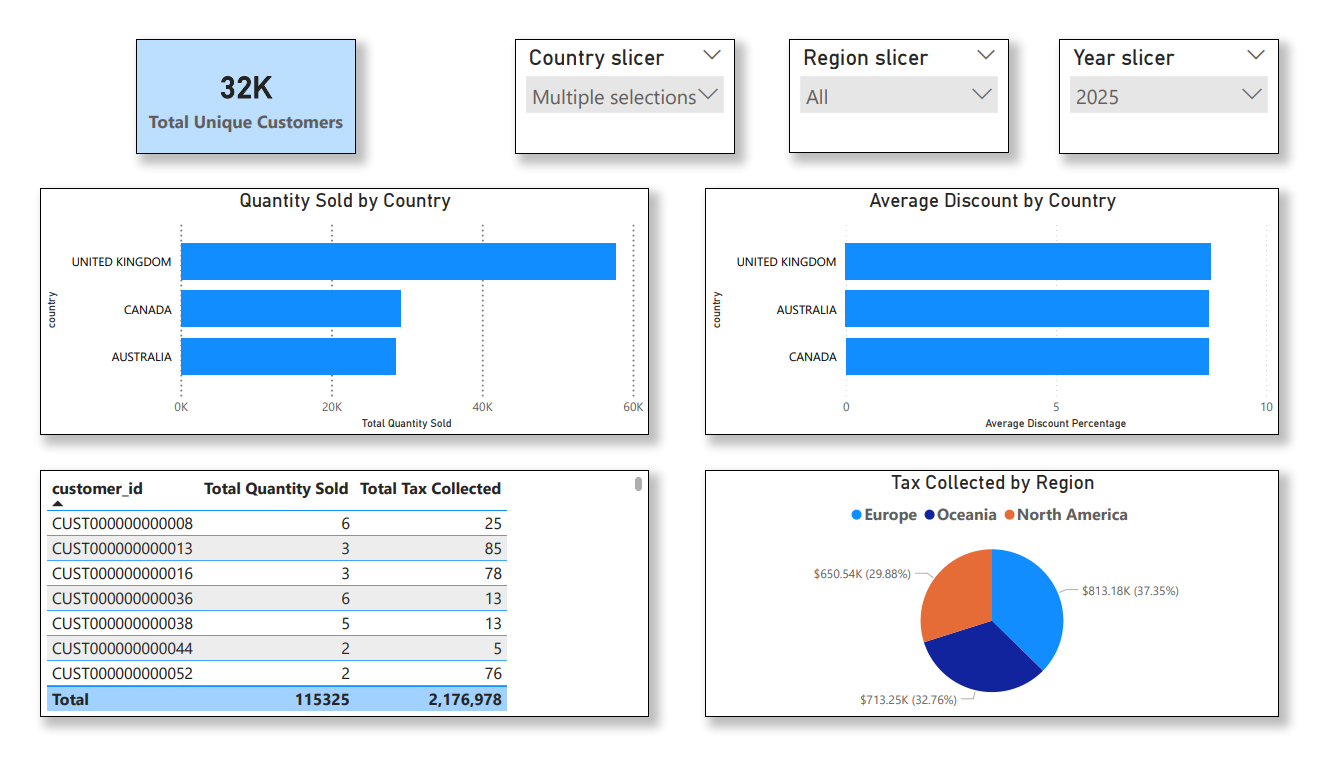

What the dashboard file says about the page in this screenshot:
{"tool":"powerbi","page":{"name":"Customer Dashboard","canvas":[1280,720],"ordinal":1},"visuals":[{"type":"card","fields":{"Values":["_Measures.Total Unique Customers"]},"box":[114.3,16.9,219.4,115.6],"z":0},{"type":"slicer","fields":{"Values":["dim_date.date.Variation.Date Hierarchy.Year"]},"box":[1037.5,16.9,219.4,115.6],"z":1000},{"type":"slicer","fields":{"Values":["dim_customers.country"]},"box":[493.4,16.9,219.4,115.6],"z":2000},{"type":"slicer","title":"asdasd","fields":{"Values":["dim_customers.region"]},"box":[767.4,16.9,219.4,114.3],"z":3000},{"type":"clusteredBarChart","title":"Quantity Sold by Country","fields":{"Category":["dim_customers.country"],"Y":["_Measures.Total Quantity Sold"]},"box":[18.2,166.2,609,246.7],"z":4000},{"type":"clusteredBarChart","title":"Average Discount by Country","fields":{"Category":["dim_customers.country"],"Y":["_Measures.Average Discount Percentage"]},"box":[683,166.2,573.9,246.7],"z":5000},{"type":"tableEx","fields":{"Values":["dim_customers.customer_id","_Measures.Total Quantity Sold","_Measures.Total Tax Collected"]},"box":[18.2,448,609,246.7],"z":6000},{"type":"pieChart","title":"Tax Collected by Region","fields":{"Category":["dim_customers.region"],"Y":["_Measures.Total Tax Collected"]},"box":[683,448,574,247],"z":7000}]}

Visuals, with their boxes in screenshot pixels (x1, y1, x2, y2), scaled from the page's 1280x720 canvas onto the 1322x762 screenshot:
card - _Measures.Total Unique Customers: bbox=(118, 18, 345, 140)
slicer - dim_date.date.Variation.Date Hierarchy.Year: bbox=(1072, 18, 1298, 140)
slicer - dim_customers.country: bbox=(510, 18, 736, 140)
"asdasd" slicer: bbox=(793, 18, 1019, 139)
"Quantity Sold by Country" clusteredBarChart: bbox=(19, 176, 648, 437)
"Average Discount by Country" clusteredBarChart: bbox=(705, 176, 1298, 437)
tableEx - dim_customers.customer_id x _Measures.Total Quantity Sold: bbox=(19, 474, 648, 735)
"Tax Collected by Region" pieChart: bbox=(705, 474, 1298, 736)
